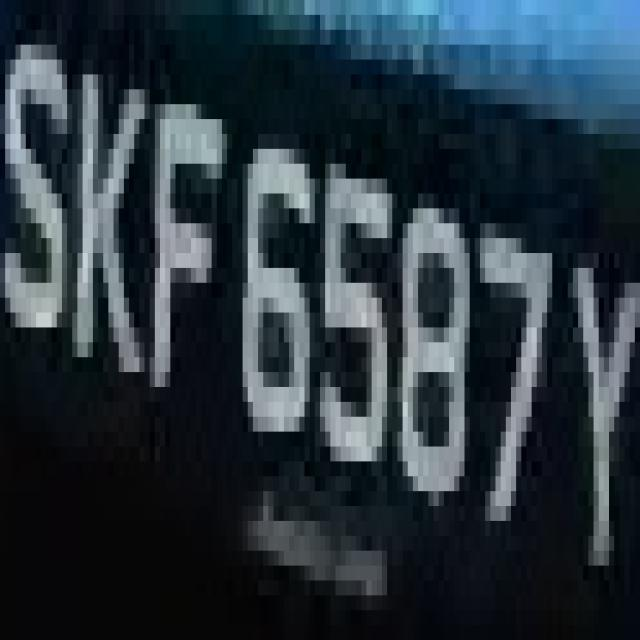5: (325, 164, 398, 506)
6: (237, 104, 320, 506)
7: (460, 178, 552, 566)
8: (397, 164, 475, 536)
F: (150, 89, 227, 417)
K: (67, 15, 150, 417)
S: (11, 0, 72, 357)
Y: (562, 223, 640, 610)
